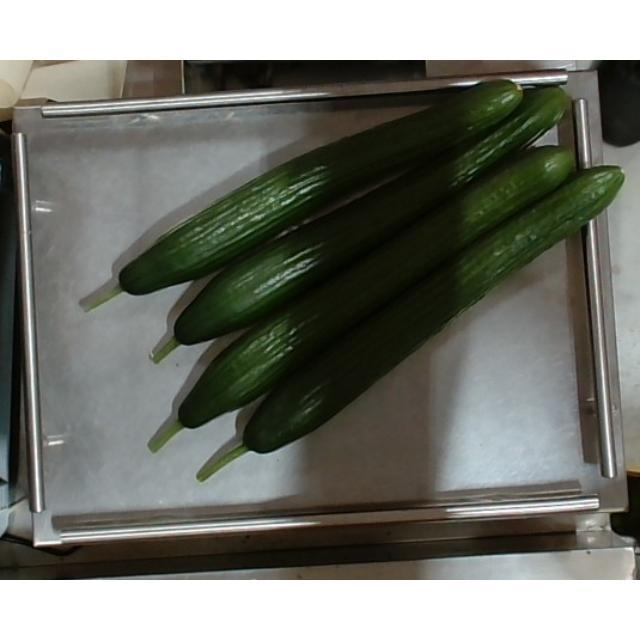cucumber: (137, 138, 581, 464), (196, 162, 628, 484), (139, 77, 581, 381), (59, 70, 530, 314)
